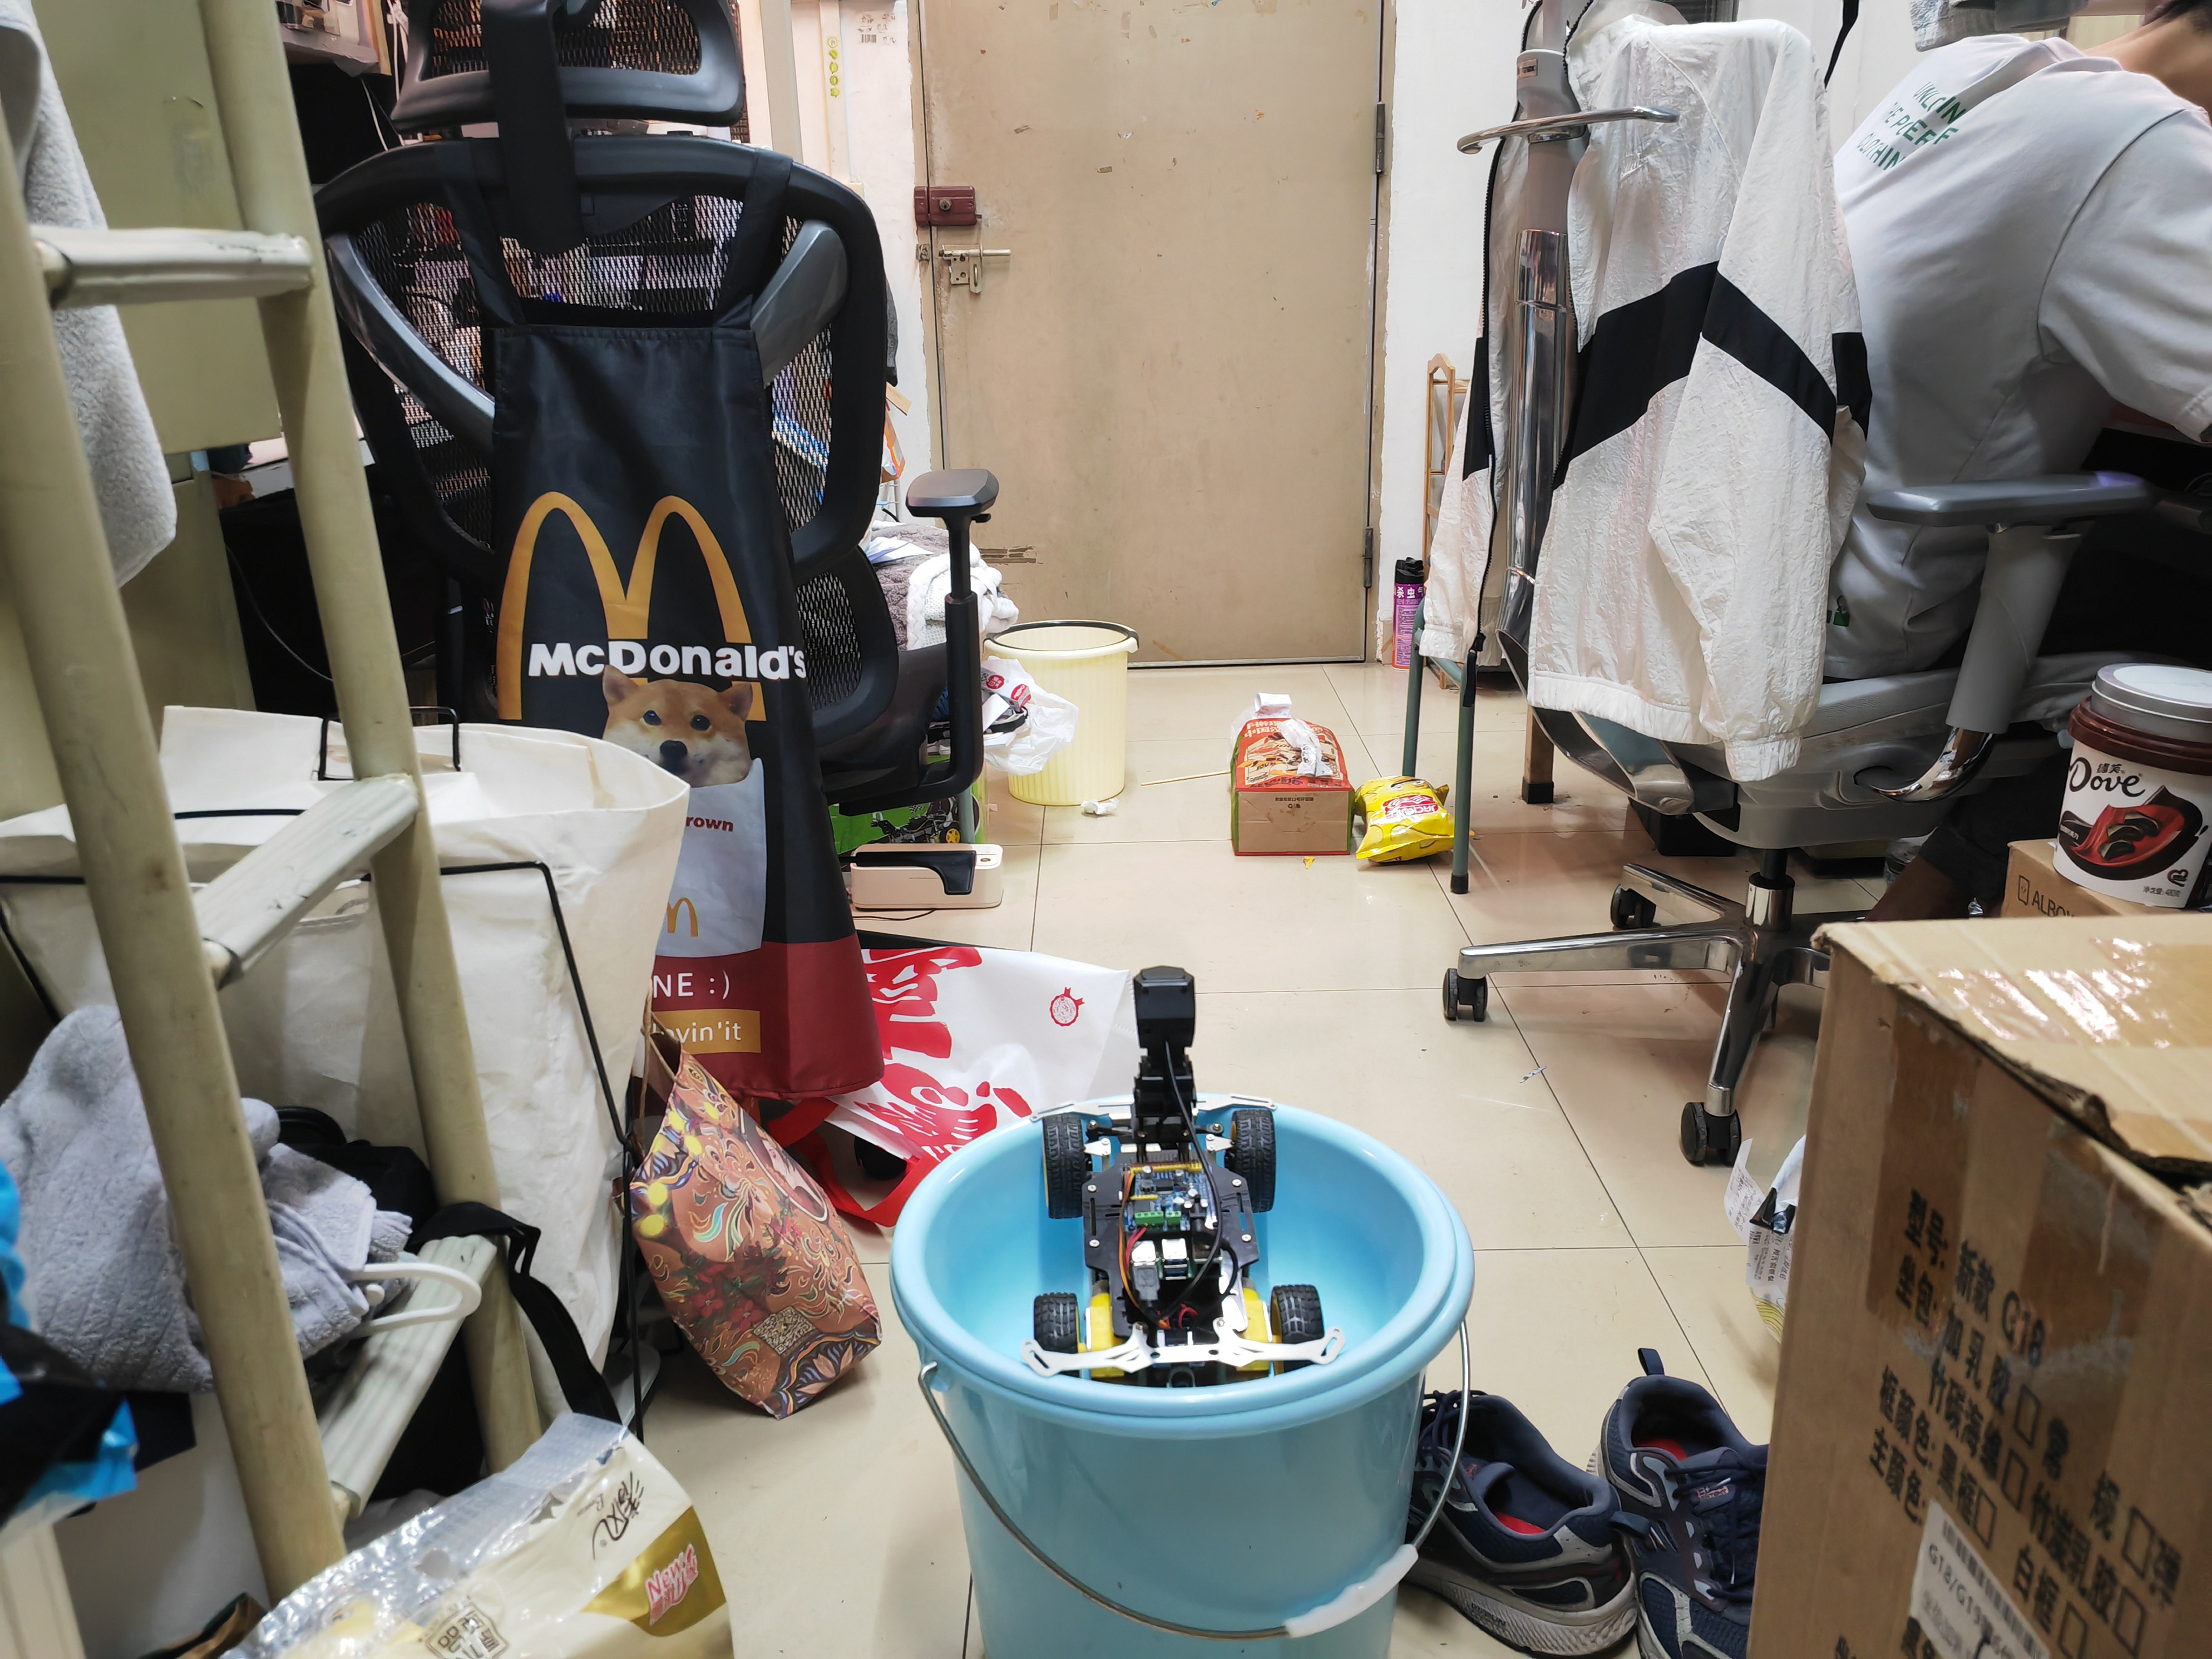car: (1014, 960, 1329, 1382)
